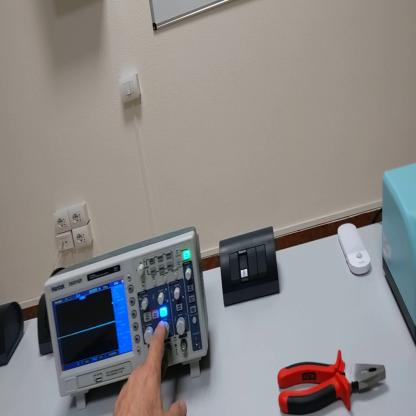hand: (114, 321, 188, 416)
oscilloscope: (47, 226, 211, 410)
pliers: (279, 350, 388, 416)
socket: (2, 300, 26, 370), (38, 295, 53, 356)
welder station: (381, 162, 416, 343)
